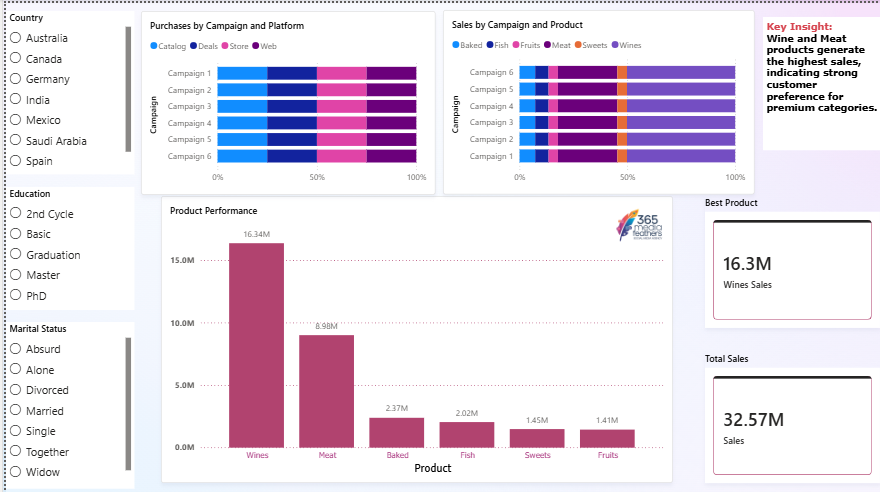

The page's visual inventory and layout, read from the dashboard file:
{"tool":"powerbi","page":{"name":"Product Performance","canvas":[1280,720],"ordinal":1},"visuals":[{"type":"clusteredColumnChart","title":"Product Performance","fields":{"Category":["365 Media Feathers Inc.Product"],"Y":["Sum(365 Media Feathers Inc.Value)"]},"box":[226.4,282.7,749.3,419.9],"z":0},{"type":"cardVisual","title":"Total Sales","fields":{"Data":["Sum(365 Media Feathers Inc.Value)"]},"box":[1022.4,510.5,256.6,192.1],"z":1000},{"type":"cardVisual","title":"Best Product","fields":{"Data":["Sum(365 Media Feathers Inc.Value)"]},"box":[1022.4,282.7,256.6,193.5],"z":2000},{"type":"textbox","box":[1107.5,20.6,172.9,194.9],"z":3000},{"type":"listSlicer","fields":{"Values":["365 Media Feathers Inc.Country"]},"box":[0,11,188,238.8],"z":4000},{"type":"listSlicer","fields":{"Values":["365 Media Feathers Inc.Education"]},"box":[0,269,188,179.8],"z":5000},{"type":"listSlicer","fields":{"Values":["365 Media Feathers Inc.Marital_Status"]},"box":[0,466.6,188,244.3],"z":6000},{"type":"hundredPercentStackedBarChart","title":"Sales by Campaign and Product","fields":{"Category":["365 Media Feathers Inc.Campaign"],"Y":["Sum(365 Media Feathers Inc.Value)"],"Series":["365 Media Feathers Inc.Product"]},"box":[639.5,9.6,455.6,270.3],"z":7000},{"type":"hundredPercentStackedBarChart","title":"Purchases by Campaign and Platform","fields":{"Category":["365 Media Feathers Inc.Campaign"],"Y":["CountNonNull(365 Media Feathers Inc.Purchases)"],"Series":["365 Media Feathers Inc.Platform"]},"box":[197.6,11,430.9,269],"z":8000},{"type":"image","box":[878.3,282.7,97.4,85.1],"z":9000}]}

Visuals, with their boxes in screenshot pixels (x1, y1, x2, y2), scaled from the page's 1280x720 canvas onto the 880x492 screenshot:
"Product Performance" clusteredColumnChart: (156, 193, 671, 480)
"Total Sales" cardVisual: (703, 349, 879, 480)
"Best Product" cardVisual: (703, 193, 879, 325)
textbox: (761, 14, 879, 147)
listSlicer - 365 Media Feathers Inc.Country: (0, 8, 129, 171)
listSlicer - 365 Media Feathers Inc.Education: (0, 184, 129, 307)
listSlicer - 365 Media Feathers Inc.Marital_Status: (0, 319, 129, 486)
"Sales by Campaign and Product" hundredPercentStackedBarChart: (440, 7, 753, 191)
"Purchases by Campaign and Platform" hundredPercentStackedBarChart: (136, 8, 432, 191)
image: (604, 193, 671, 251)
